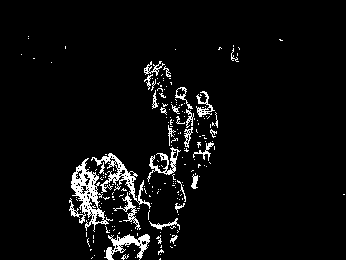person: (143, 151, 186, 256), (100, 155, 140, 240), (71, 155, 99, 256), (198, 90, 219, 182), (172, 86, 190, 167), (142, 60, 156, 116), (156, 57, 170, 110)
